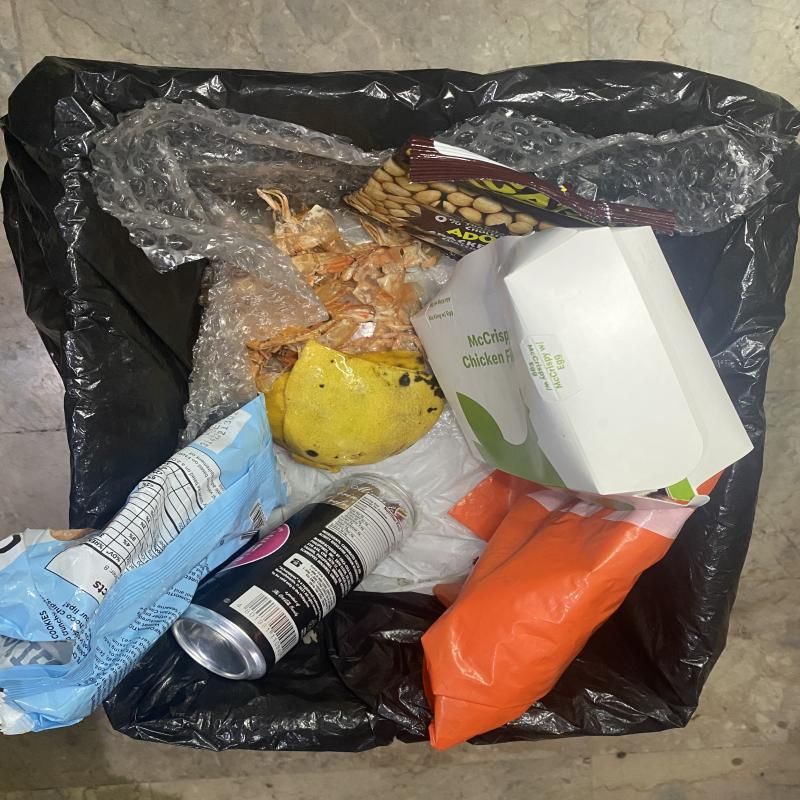aluminum: (171, 473, 415, 681)
cardboard: (410, 226, 754, 512)
food wrapper: (0, 395, 291, 737), (343, 135, 676, 261)
fruit peels: (255, 340, 445, 474)
left-over food: (245, 189, 440, 394)
plastic bag: (89, 97, 398, 448), (420, 470, 725, 752), (436, 108, 779, 236)
